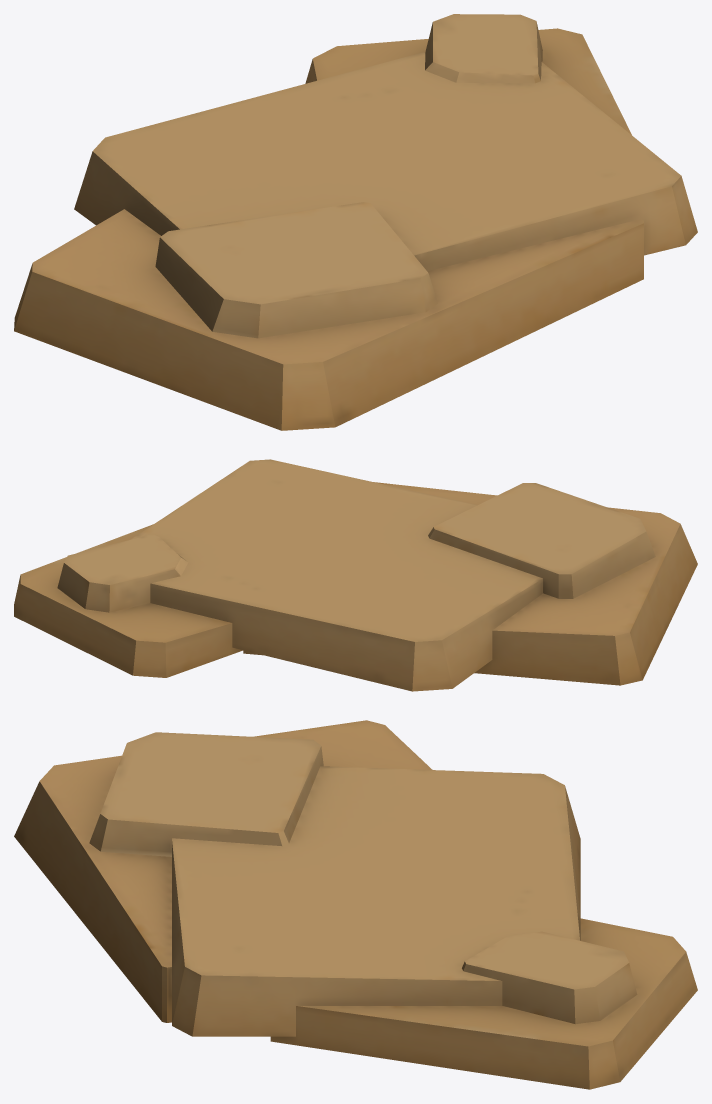
File: rocksmall_3.fbx
3 renders of one model, top to bottom at view 1: azimuth 30°, elevation 25°; view 2: azimuth 150°, elevation 25°; view 3: azimuth 270°, elevation 25°, orthographic. The views are drawn at different scales.
Parts seen in each view (by area): view 1: SM_rockpc_low; view 2: SM_rockpc_low; view 3: SM_rockpc_low.
Part boxes in pixels (left/top/right/bottom): SM_rockpc_low: left=14, top=14, right=697, bottom=430; SM_rockpc_low: left=14, top=459, right=697, bottom=691; SM_rockpc_low: left=14, top=720, right=697, bottom=1089.
Bounding box in the file's own units: 385 × 45.87 × 335.
Materials: 1 (1 with a texture image).
